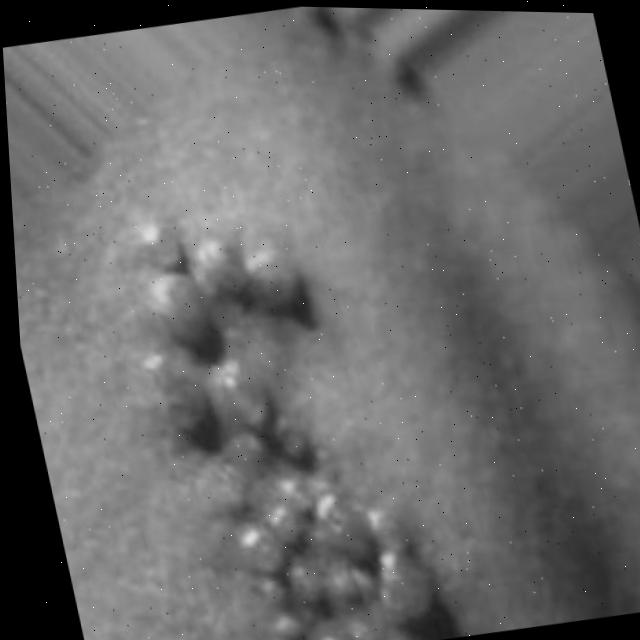Shingles: (114, 184, 434, 640)
